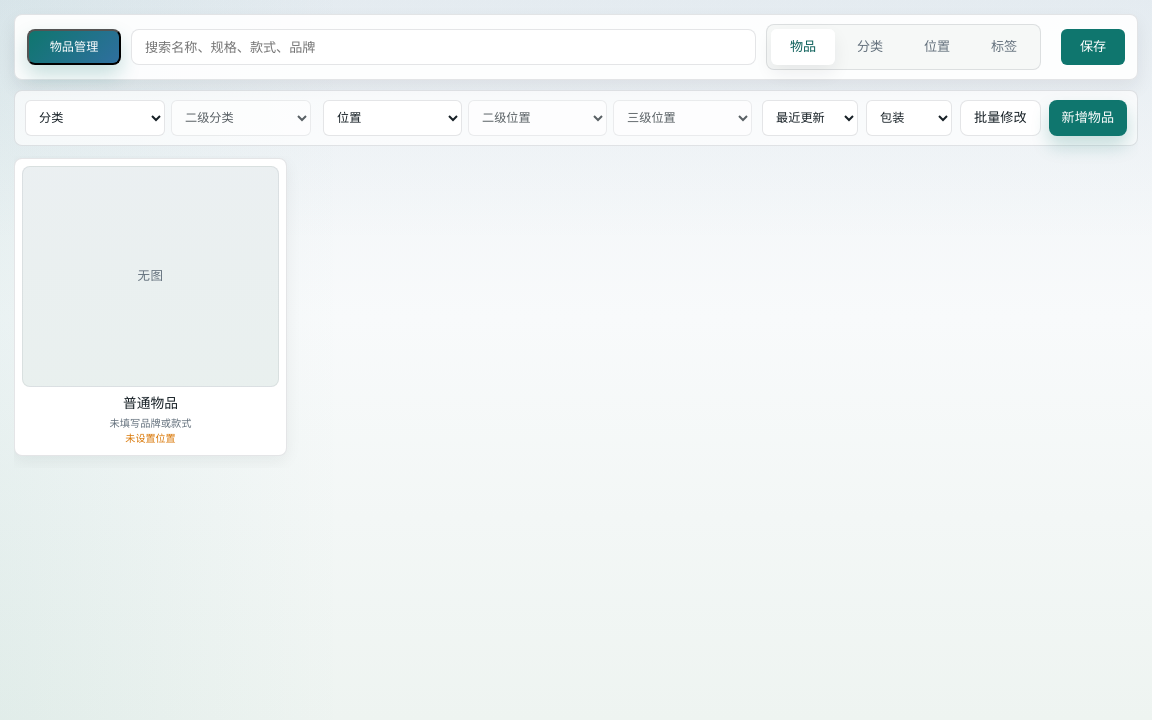
Test: password gated browser inventory › uses the entry bootstrap without another session/project request and retains expiry handling
Expected: the button "无图 普通物品 未填写品牌或款式 未设置位置" is shown, x1=14 y1=158 x2=287 y2=456
What coordinates should you click on to do the following:
click the button with aria-label "保存项目"
I would click on:
 (1093, 47)
Its box is x1=1061 y1=29 x2=1125 y2=65.
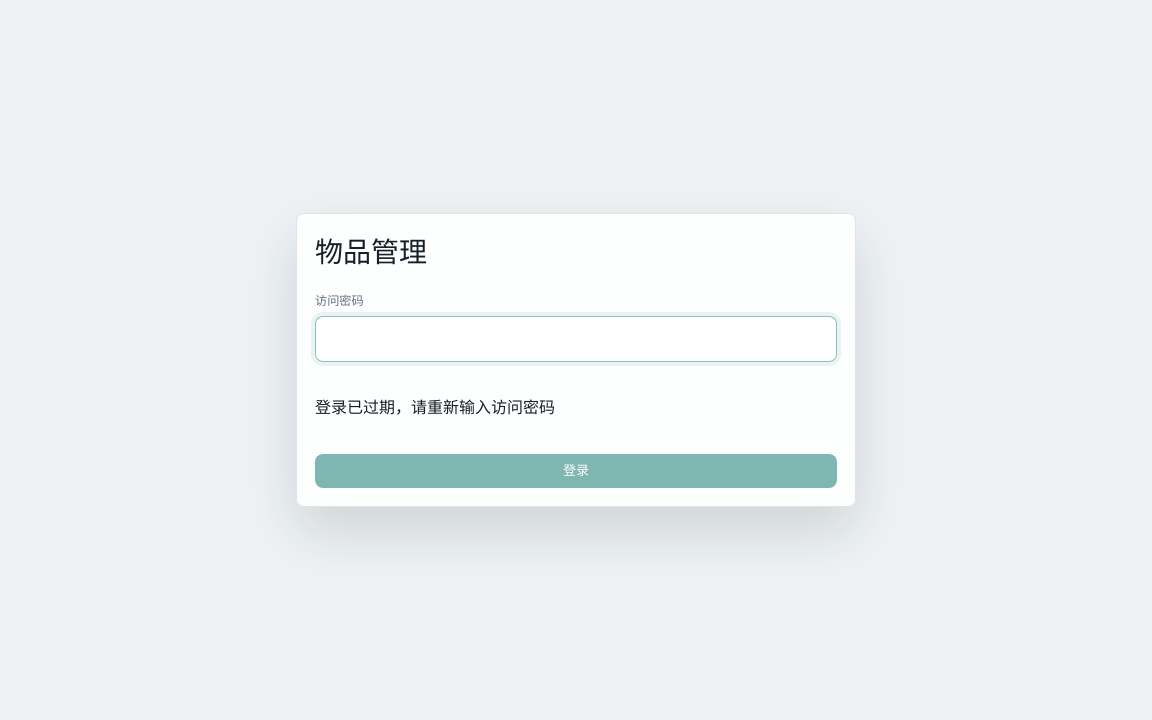
Expected: the password field labelled "访问密码" is shown, x1=315 y1=316 x2=837 y2=362
Expected: the text "普通物品" is gone
